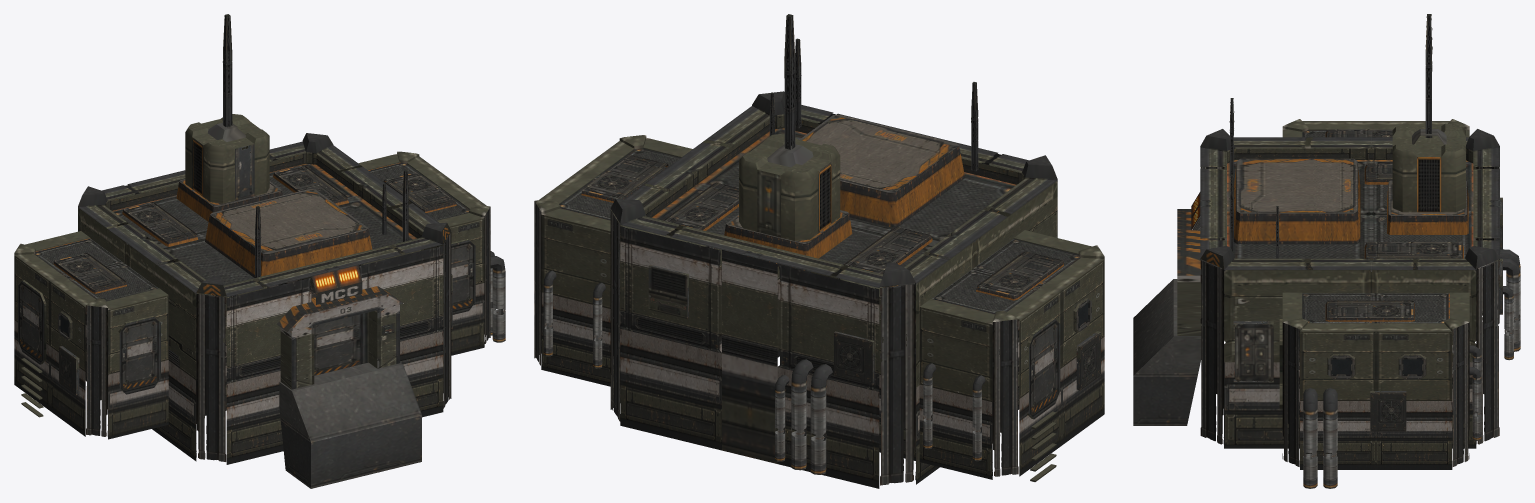
3 views of the same model, side by side, from view 1: azimuth 30°, elevation 25°; view 2: azimuth 150°, elevation 25°; view 3: azimuth 270°, elevation 25° (orthographic). The views are drawn at different scales.
Parts seen in each view (by area): view 1: cc; view 2: cc; view 3: cc.
Part boxes in pixels (x1=…): cc: x1=14, y1=14, x2=505, y2=488; cc: x1=534, y1=14, x2=1104, y2=488; cc: x1=1133, y1=14, x2=1520, y2=488.
Size of the model in its own units: 40.54 by 29.85 by 32.48.
